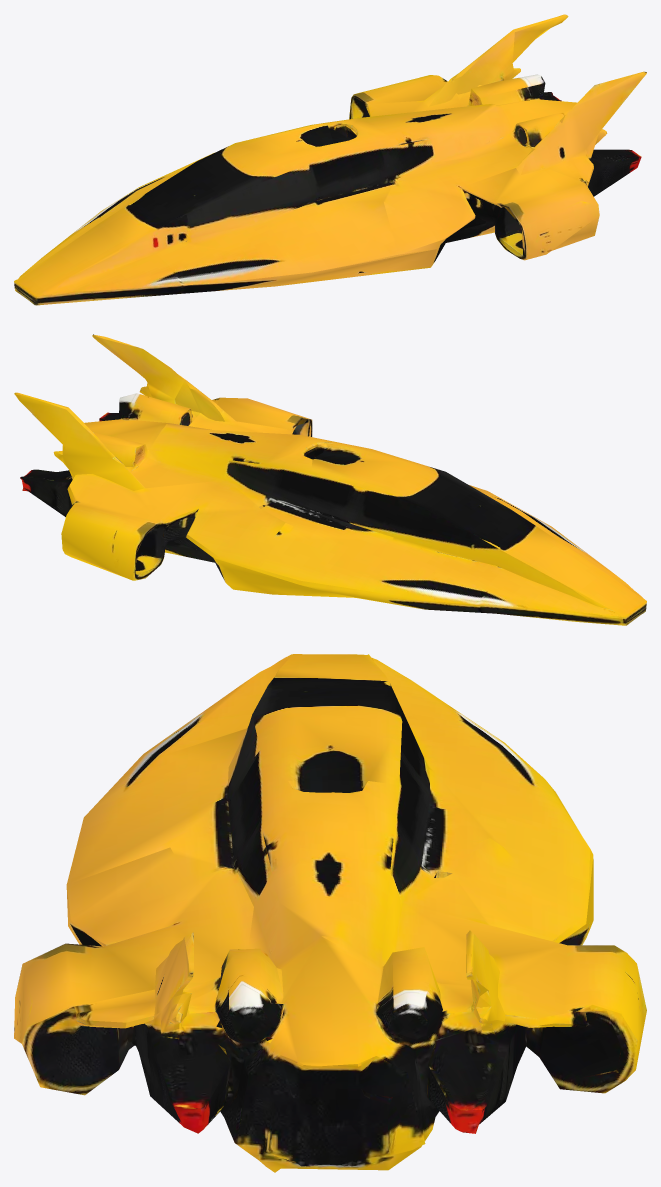
Rendered from ship15.glb.
3 views of the same model, one above another, from view 1: azimuth 30°, elevation 25°; view 2: azimuth 150°, elevation 25°; view 3: azimuth 270°, elevation 25° (orthographic). The views are drawn at different scales.
Visible parts, largest first — view 1: Mesh0; view 2: Mesh0; view 3: Mesh0.
Boxes of the visible parts, x1=… form: Mesh0: x1=14, y1=14, x2=646, y2=305; Mesh0: x1=14, y1=334, x2=646, y2=625; Mesh0: x1=14, y1=654, x2=646, y2=1172.
Size of the model in its own units: 1.91 by 0.4489 by 1.01.
Materials: 1 (1 with a texture image).
